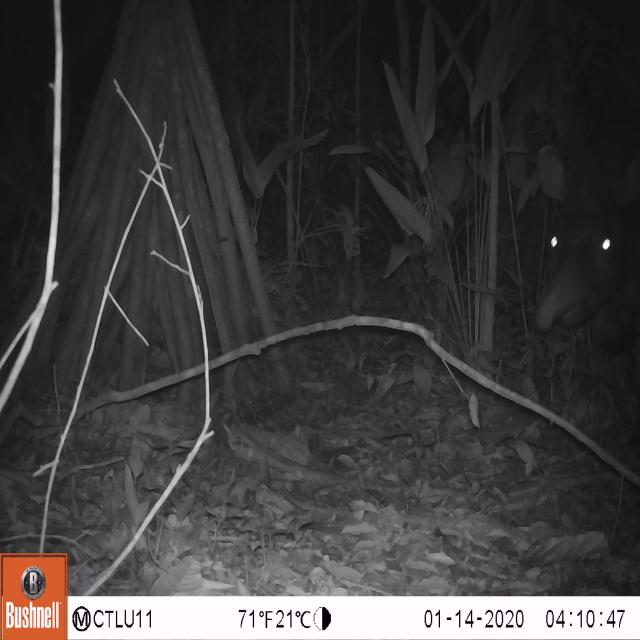Lowland Tapir: (514, 110, 640, 381)
